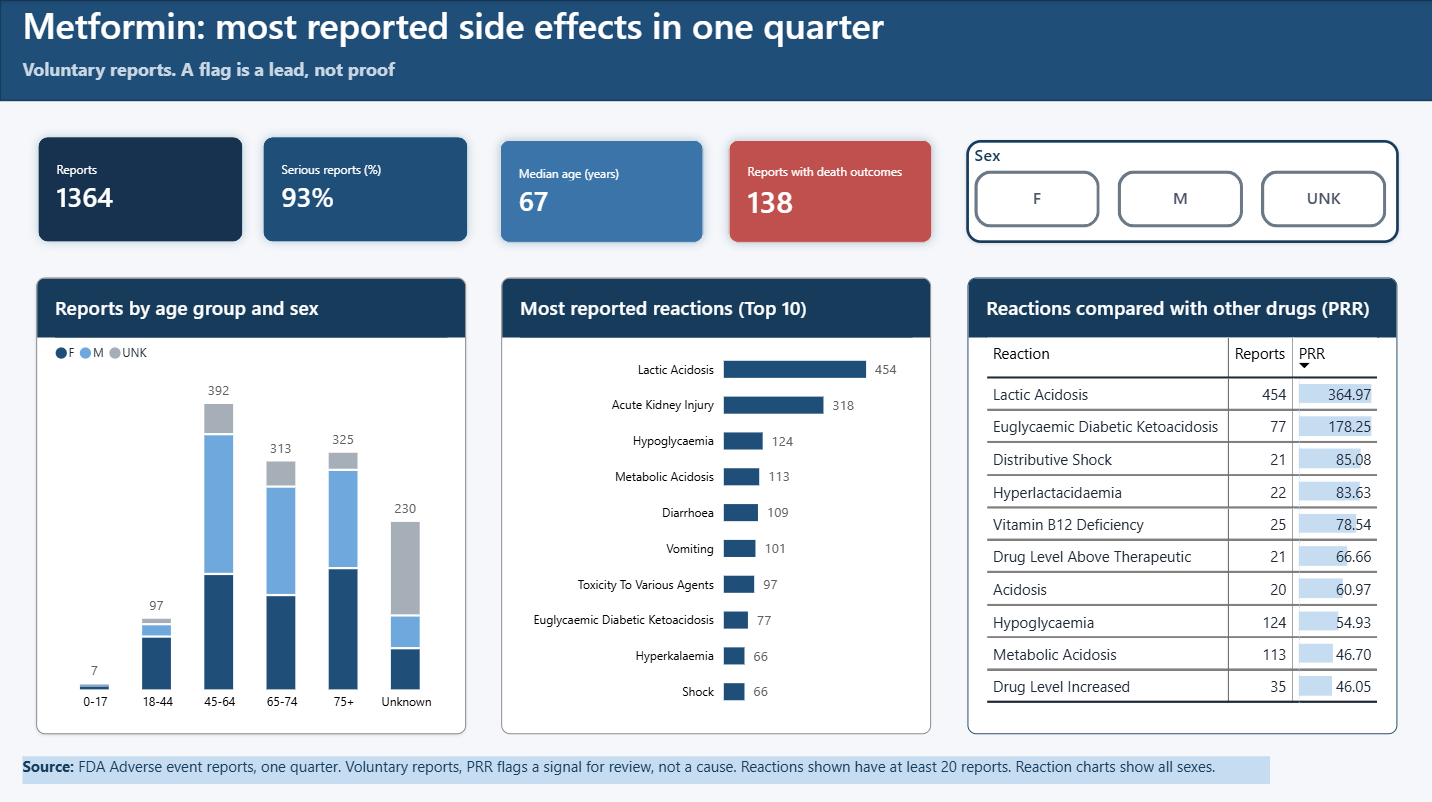

What the dashboard file says about the page in this screenshot:
{"tool":"powerbi","page":{"name":"Page 1","canvas":[1280,720],"ordinal":0},"visuals":[{"type":"cardVisual","fields":{"Data":["reactions_prr.Serious %"]},"box":[224,112,204.3,115.7],"z":0},{"type":"cardVisual","fields":{"Data":["reactions_prr.Deaths"]},"box":[640,114,204.3,114.3],"z":1000},{"type":"cardVisual","fields":{"Data":["reactions_prr.Reports"]},"box":[24,112,204.3,115.7],"z":2000},{"type":"cardVisual","fields":{"Data":["reactions_prr.Median age"]},"box":[436,114,204.3,114.3],"z":3000},{"type":"clusteredBarChart","title":"Most reported reactions (Top 10)","fields":{"Category":["reactions_prr.pt"],"Y":["Sum(reactions_prr.a)"]},"box":[448,248,384,408],"z":4000},{"type":"columnChart","title":"Reports by age group and sex","fields":{"Category":["reports.age_band"],"Series":["reports.sex"],"Y":["reactions_prr.Reports"]},"box":[32,248,384,408],"z":5000},{"type":"advancedSlicerVisual","title":"Sex","fields":{"Values":["reports.sex"]},"box":[1284,163,602,104],"z":6000},{"type":"shape","box":[0,0,1920,90],"z":7000},{"type":"tableEx","title":"Reactions compared with other drugs (PRR)","fields":{"Values":["reactions_prr.pt","reactions_prr.a","reactions_prr.PRR"]},"box":[1297.5,345,602.5,685],"z":8000},{"type":"textbox","box":[20,0,1295,90],"z":9000},{"type":"textbox","box":[20,50,1295,25],"z":10000},{"type":"advancedSlicerVisual","title":"Sex","fields":{"Values":["reports.sex"]},"box":[863.3,125,386.7,91.7],"z":11000},{"type":"tableEx","title":"Reactions compared with other drugs (PRR)","fields":{"Values":["reactions_prr.pt","reactions_prr.a","reactions_prr.PRR"]},"box":[864,248,384,408],"z":12000},{"type":"textbox","box":[20,675.6,1114.4,24.4],"z":13500}]}

Visuals, with their boxes in screenshot pixels (x1, y1, x2, y2), scaled from the page's 1280x720 canvas onto the 1432x802 screenshot:
cardVisual - reactions_prr.Serious %: bbox(251, 125, 479, 254)
cardVisual - reactions_prr.Deaths: bbox(716, 127, 945, 254)
cardVisual - reactions_prr.Reports: bbox(27, 125, 255, 254)
cardVisual - reactions_prr.Median age: bbox(488, 127, 716, 254)
"Most reported reactions (Top 10)" clusteredBarChart: bbox(501, 276, 931, 731)
"Reports by age group and sex" columnChart: bbox(36, 276, 465, 731)
shape: bbox(0, 0, 1431, 100)
textbox: bbox(22, 0, 1431, 100)
textbox: bbox(22, 56, 1431, 84)
"Sex" advancedSlicerVisual: bbox(966, 139, 1398, 241)
"Reactions compared with other drugs (PRR)" tableEx: bbox(967, 276, 1396, 731)
textbox: bbox(22, 753, 1269, 780)
